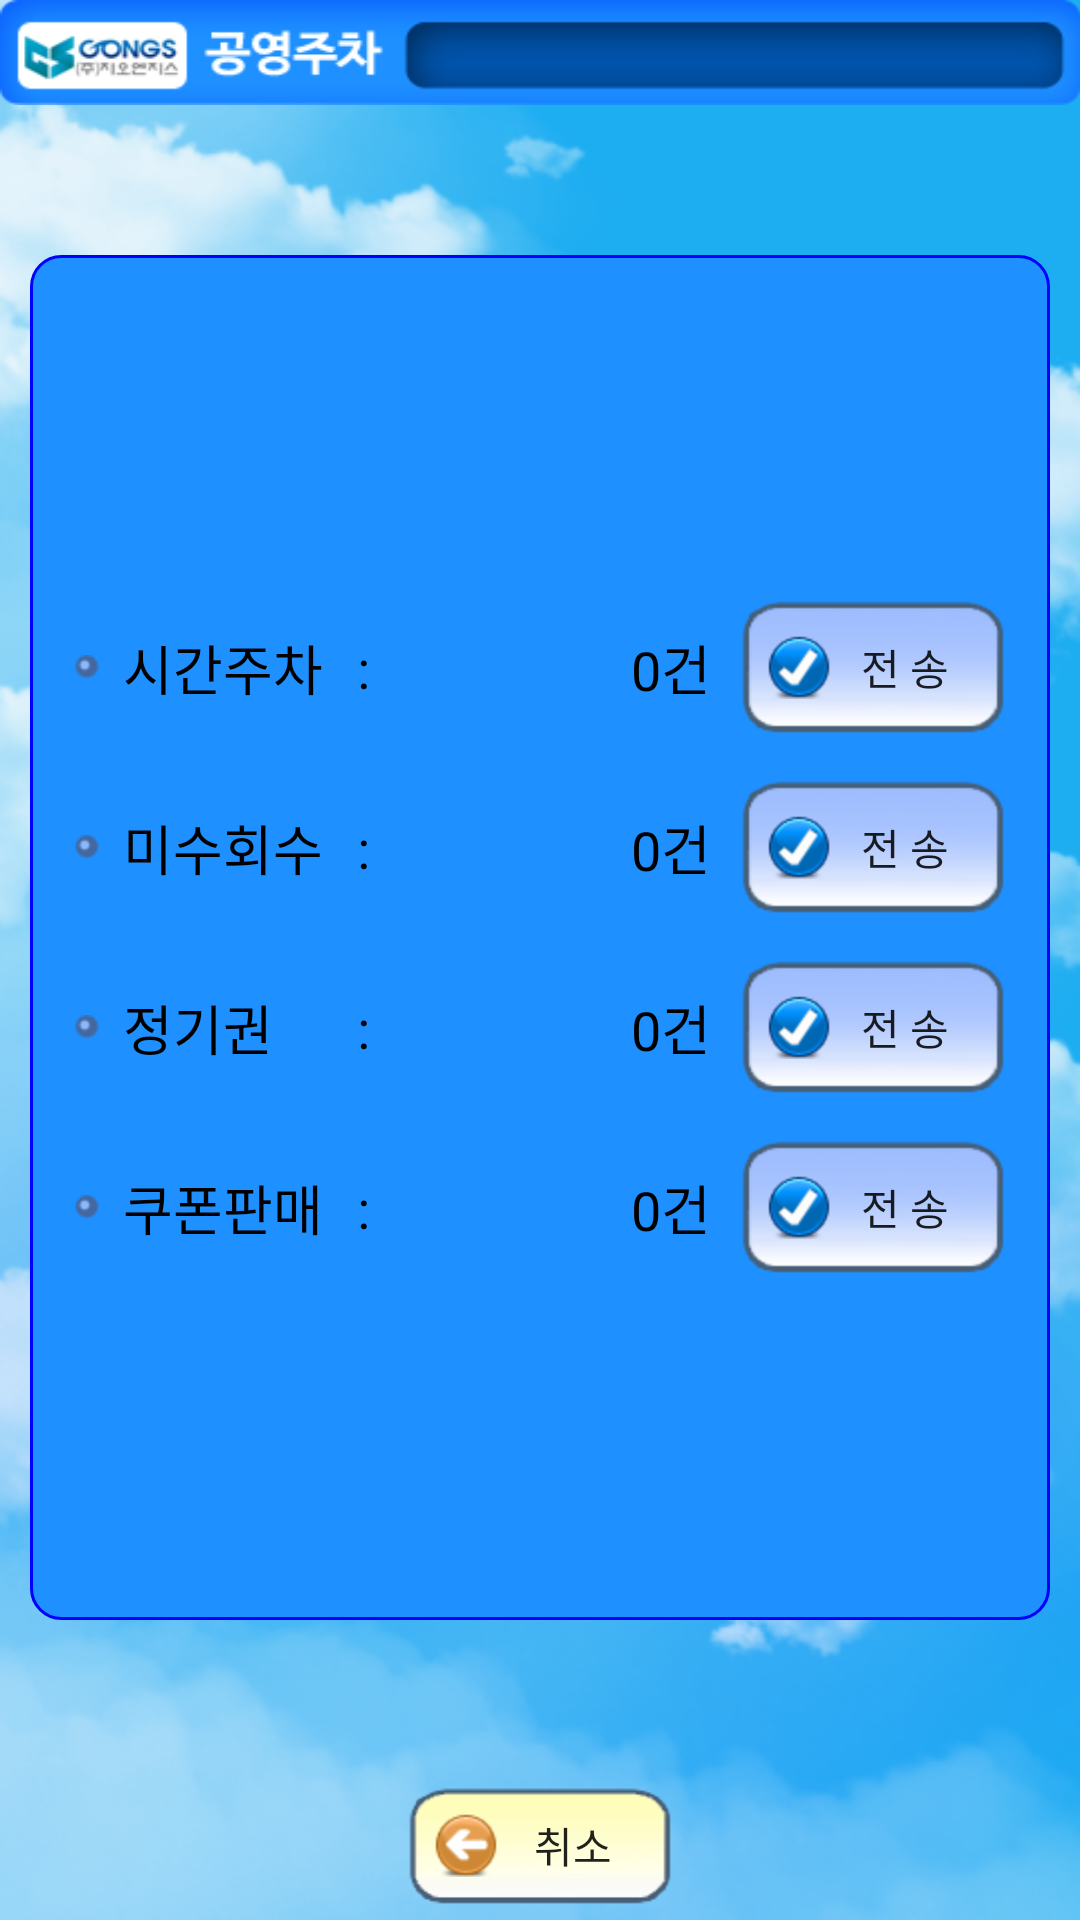

Named icons in this screenshot (1080×1920) and their centers, (x,y):
dot: (87,666), (87,846), (87,1026), (87,1206)
